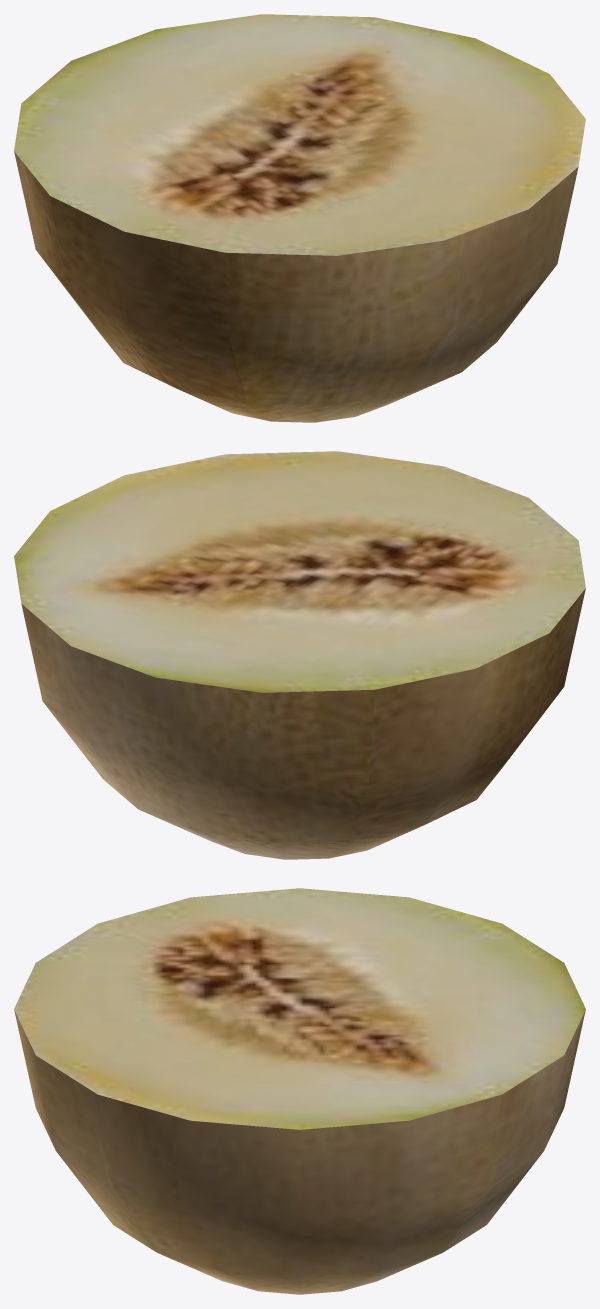
File: Cantaloupe_01.glb
The picture shows the model from 3 angles, top to bottom: view 1: azimuth 30°, elevation 25°; view 2: azimuth 150°, elevation 25°; view 3: azimuth 270°, elevation 25°; orthographic projection.
Parts seen in each view (by area): view 1: Cantaloupe_01; view 2: Cantaloupe_01; view 3: Cantaloupe_01.
Part boxes in pixels (bbox=[...]): Cantaloupe_01: bbox=[14, 14, 585, 422]; Cantaloupe_01: bbox=[14, 451, 585, 859]; Cantaloupe_01: bbox=[14, 888, 585, 1294].
Bounding box in the file's own units: 0.3199 × 0.16 × 0.3199.
Materials: 1 (1 with a texture image).
